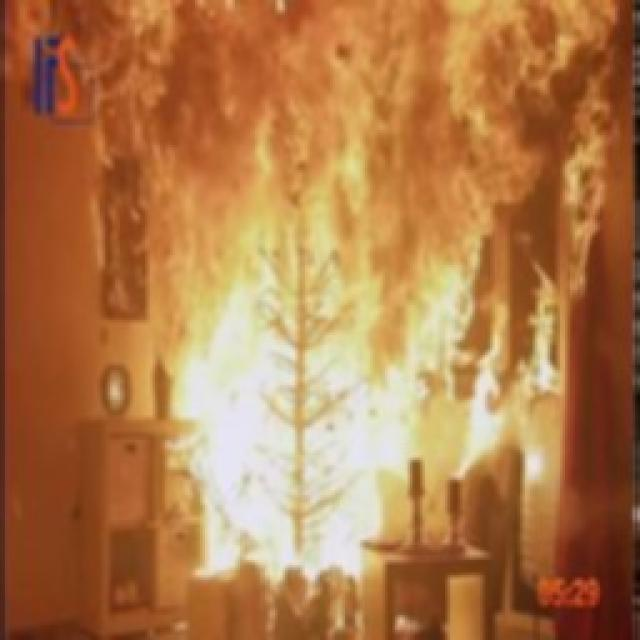fire: (4, 1, 631, 571)
